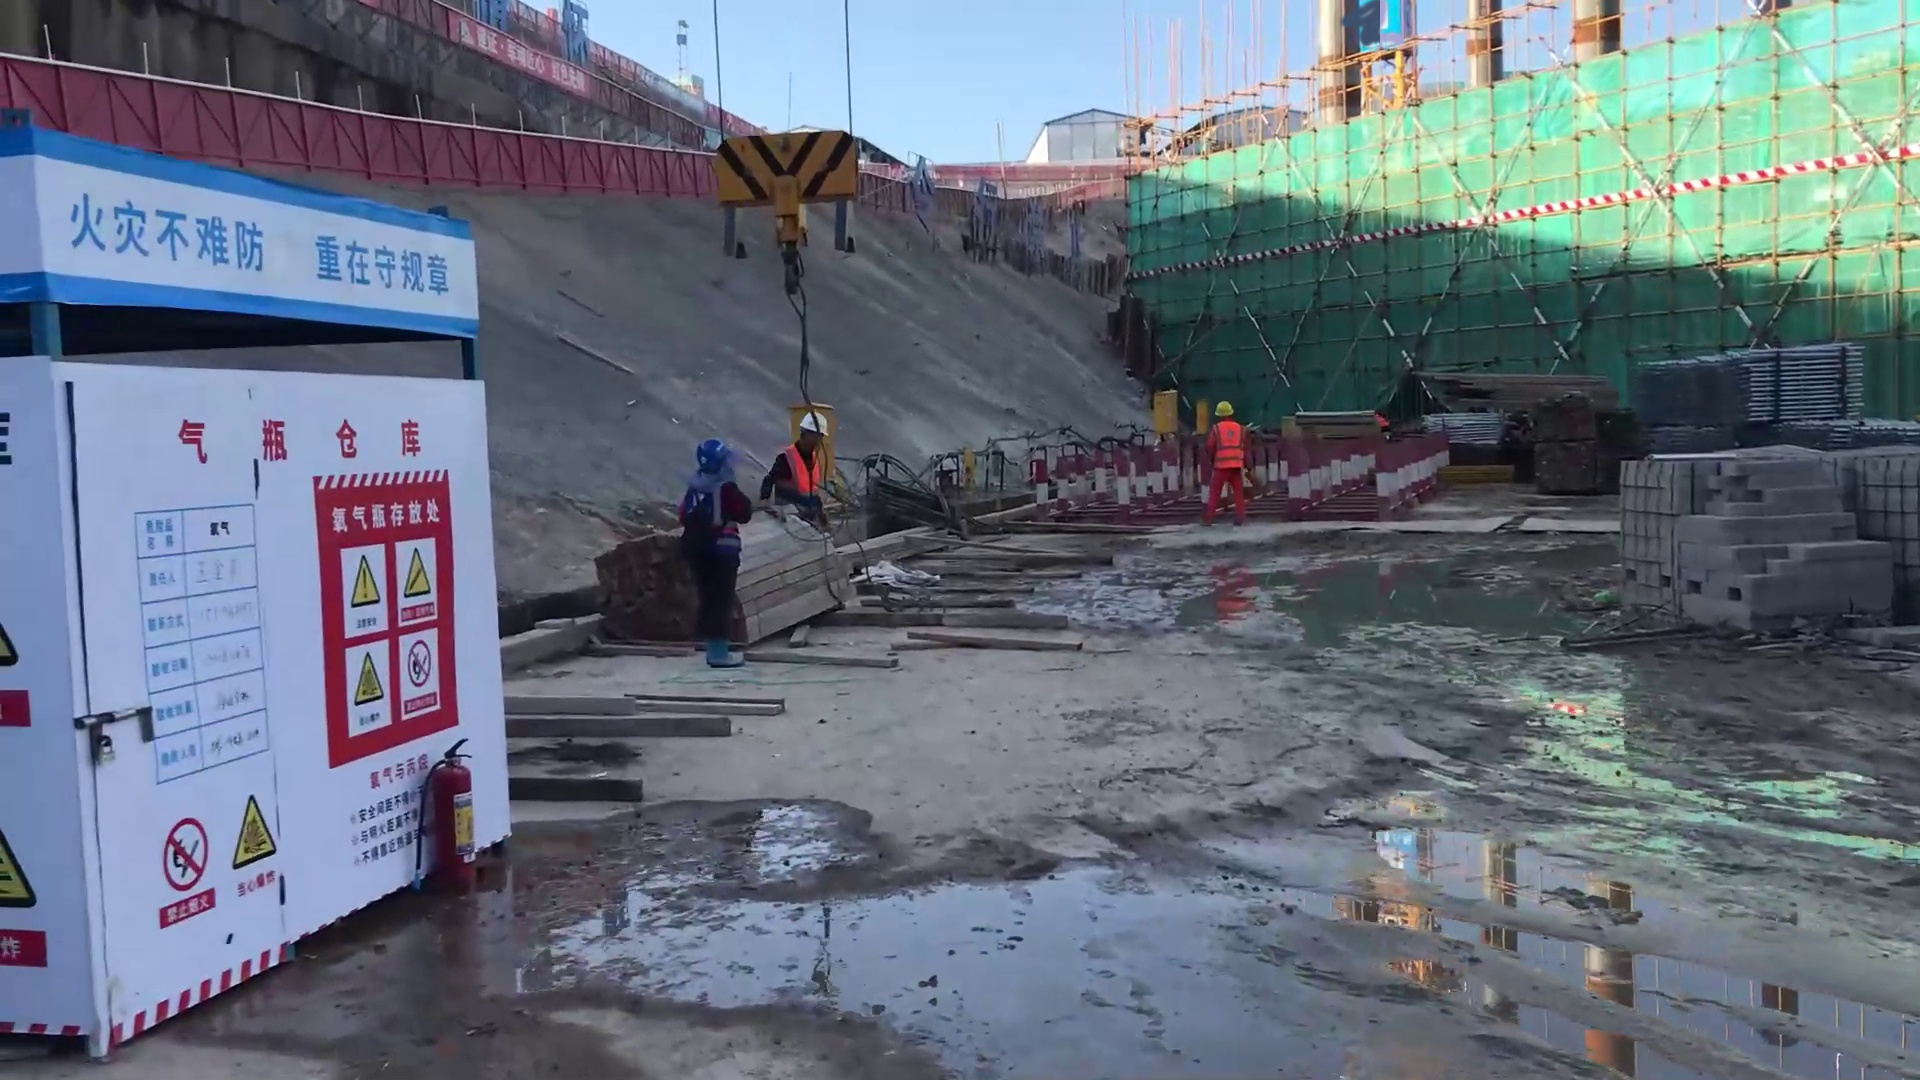brick: (1619, 433, 1920, 626), (1626, 348, 1878, 438)
ebox: (1138, 378, 1195, 441)
fence: (1, 60, 664, 185)
helmet: (678, 428, 756, 465), (778, 402, 835, 438), (1207, 398, 1239, 421)
hook: (706, 131, 875, 270)
person: (679, 438, 749, 670), (762, 410, 830, 527), (1202, 397, 1251, 526)
slogan: (46, 188, 477, 297), (315, 471, 454, 753), (132, 775, 340, 946)
vest: (771, 452, 824, 512), (688, 479, 731, 551), (1209, 423, 1246, 473)
wood: (741, 524, 852, 650), (1388, 360, 1597, 427)
